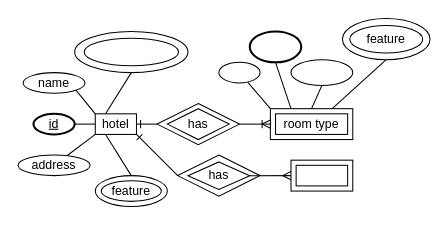
Image size: 448x225. Some labels were removed from this diagram. The shapes that lost their labels are listed below. From the top down, each one's centre as x and y in pixels, then its label:
At point 131,51: "phone number".
At point 275,46: "type".
At point 239,72: "size".
At point 321,72: "capacity".
At point 321,175: "room".
